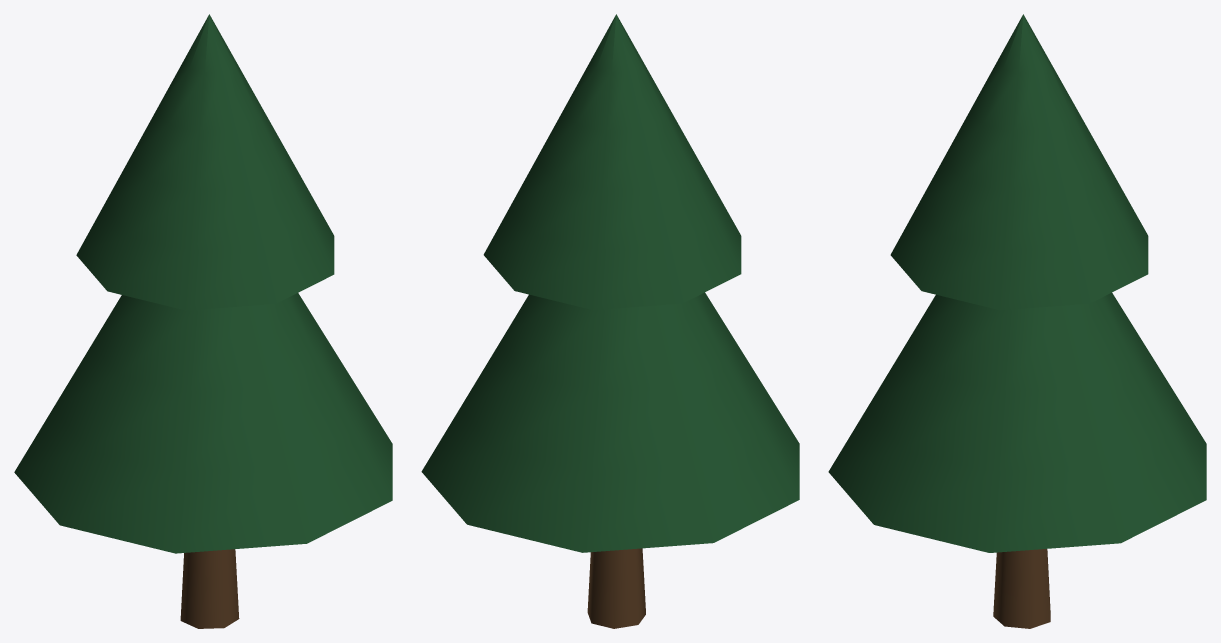
The model's file is sapin.glb.
The picture shows the model from 3 angles, left to right: view 1: azimuth 30°, elevation 25°; view 2: azimuth 150°, elevation 25°; view 3: azimuth 270°, elevation 25°; orthographic projection.
Visible parts, largest first — view 1: Etage0, Etage1, Tronc; view 2: Etage0, Etage1, Tronc; view 3: Etage0, Etage1, Tronc.
Part boxes in pixels (bbox=[...]): Etage0: bbox=[14, 293, 392, 553]; Etage1: bbox=[76, 14, 334, 310]; Tronc: bbox=[180, 549, 239, 628]; Etage0: bbox=[421, 292, 799, 552]; Etage1: bbox=[483, 14, 741, 310]; Tronc: bbox=[587, 548, 645, 628]; Etage0: bbox=[828, 292, 1206, 552]; Etage1: bbox=[890, 14, 1148, 310]; Tronc: bbox=[993, 549, 1050, 628].
Bounding box in the file's own units: 2.17 × 3.75 × 2.13.
